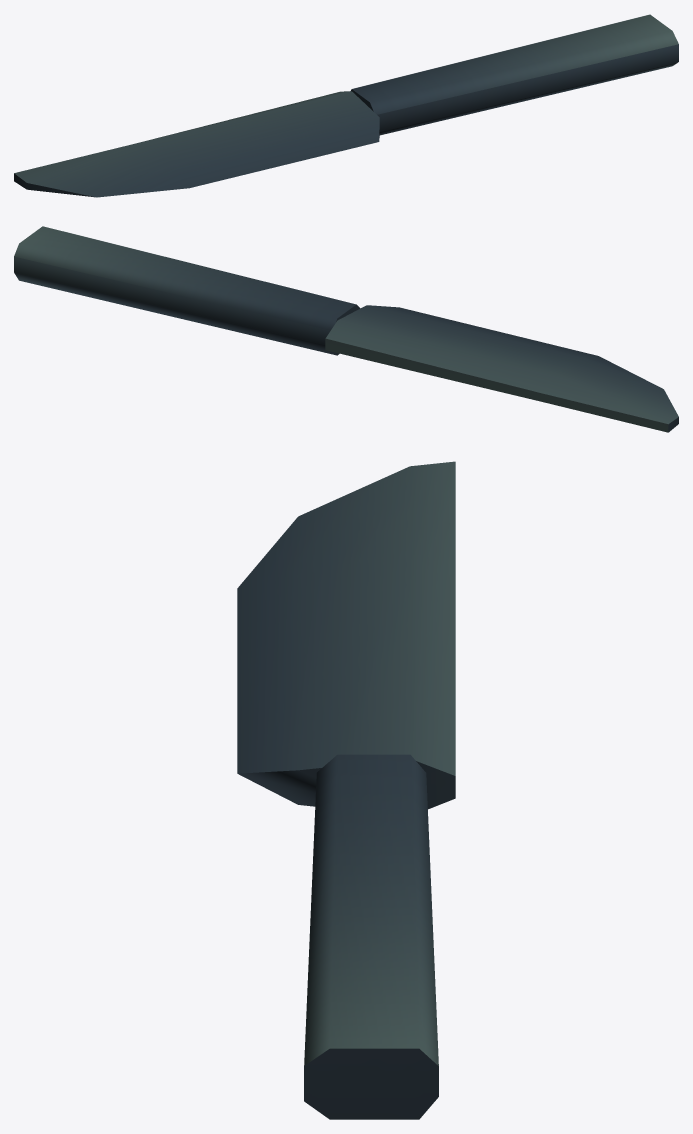
File: knife_cuttlery_metal.fbx
3 views of the same model, one above another, from view 1: azimuth 30°, elevation 25°; view 2: azimuth 150°, elevation 25°; view 3: azimuth 270°, elevation 25° (orthographic). The views are drawn at different scales.
Parts seen in each view (by area): view 1: knife_cuttlery_metal; view 2: knife_cuttlery_metal; view 3: knife_cuttlery_metal.
Boxes of the visible parts, bbox=[...] form: knife_cuttlery_metal: bbox=[14, 14, 678, 197]; knife_cuttlery_metal: bbox=[14, 226, 678, 432]; knife_cuttlery_metal: bbox=[237, 461, 455, 1119].
Bounding box in the file's own units: 43.25 × 2.35 × 6.53.
